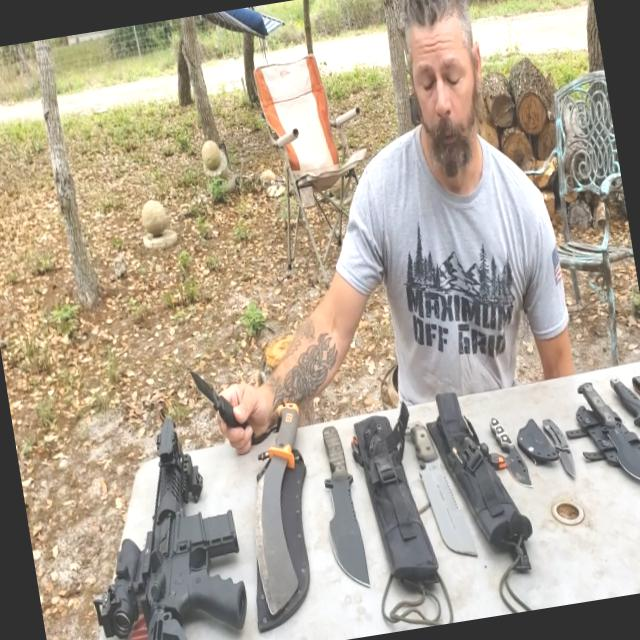knife: (220, 376, 332, 611), (292, 391, 390, 594), (397, 395, 482, 549), (468, 368, 552, 502), (568, 364, 639, 497), (531, 392, 598, 484), (178, 364, 254, 444), (598, 356, 639, 464)
long weapon: (44, 348, 284, 639)
